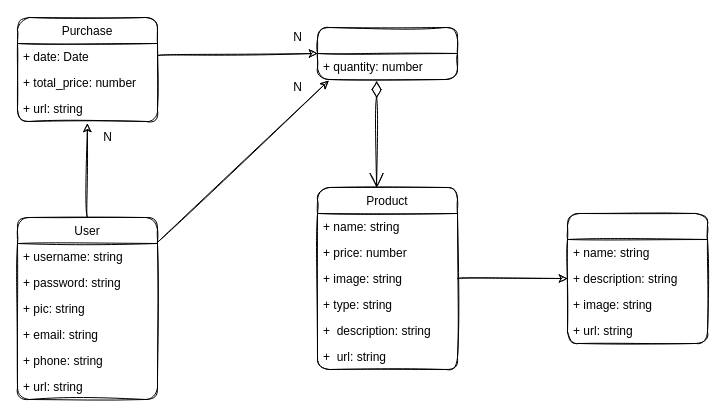
Image size: 725x420. Some labels were removed from this diagram. Here are the shapes that lost their labels. From the top down, the box of each, then its label:
(316, 26, 458, 80): CartItem
(566, 212, 708, 344): Category
